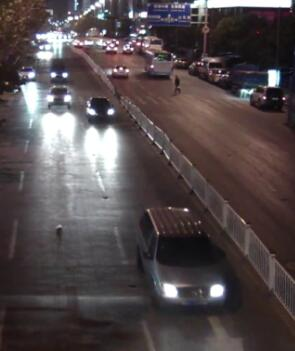bus: (143, 47, 174, 79), (137, 34, 164, 56), (129, 32, 140, 54)
car: (136, 205, 227, 310), (231, 62, 268, 95), (248, 85, 284, 112), (85, 95, 113, 122), (196, 57, 226, 80), (48, 83, 71, 107), (206, 66, 229, 87), (15, 62, 37, 82), (48, 60, 69, 79), (111, 62, 129, 79), (37, 39, 52, 53), (186, 60, 201, 74), (175, 54, 190, 68), (121, 42, 134, 56), (104, 41, 118, 53), (95, 37, 107, 49), (83, 37, 95, 47), (70, 39, 83, 48)
